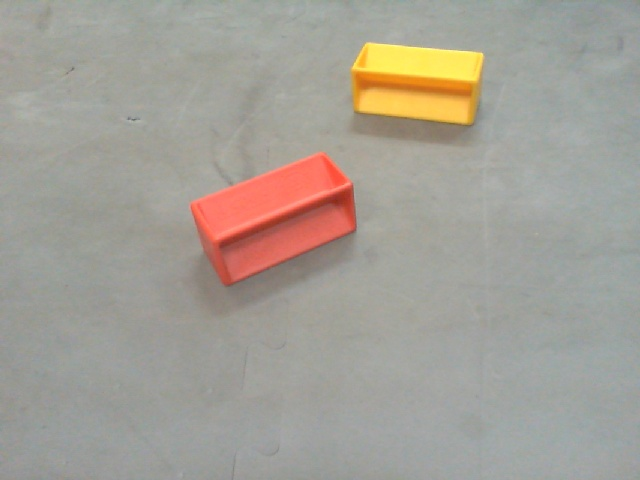RedSample: (184, 153, 356, 285)
YellowSample: (349, 40, 485, 129)
